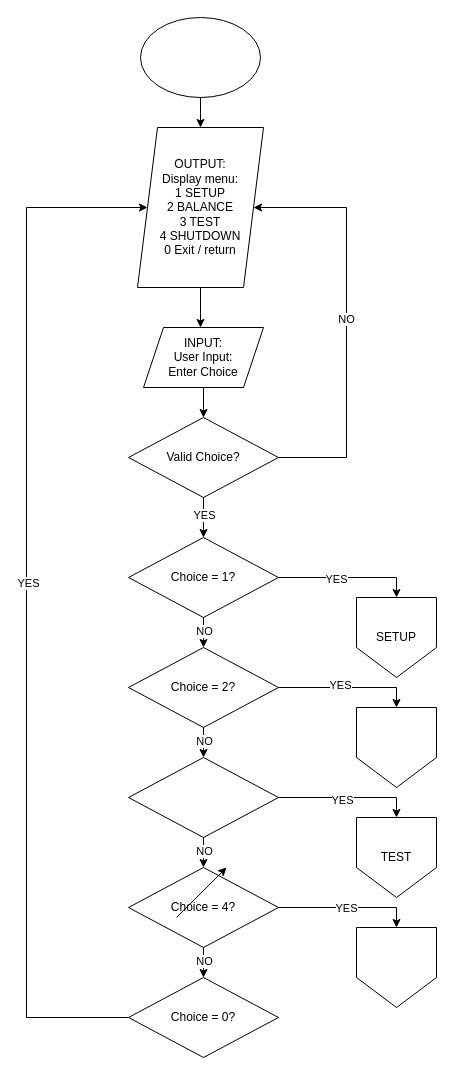
This 454x1075 diagram has some shape labels left out. The box of each missing label's shape, as (x1, y1, x2, y2) in pixels:
BALANCE: (356, 706, 436, 788)
Choice = 3?: (128, 756, 278, 838)
SHUTDOWN: (356, 926, 436, 1008)
START: (140, 16, 260, 98)
